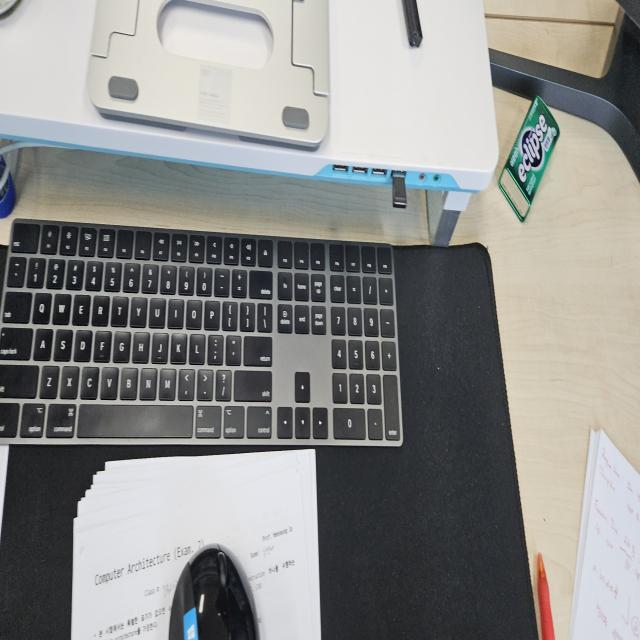Keyboard: (1, 215, 404, 449)
Mouse: (167, 539, 260, 637)
